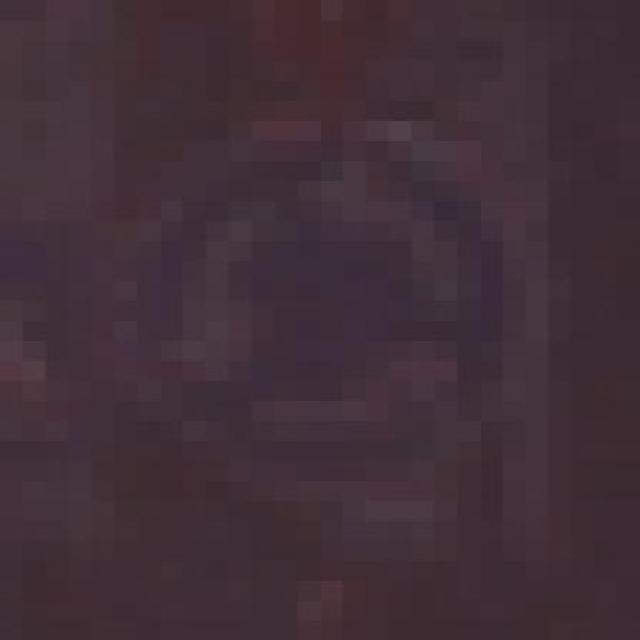Round-About: (114, 60, 572, 540)
